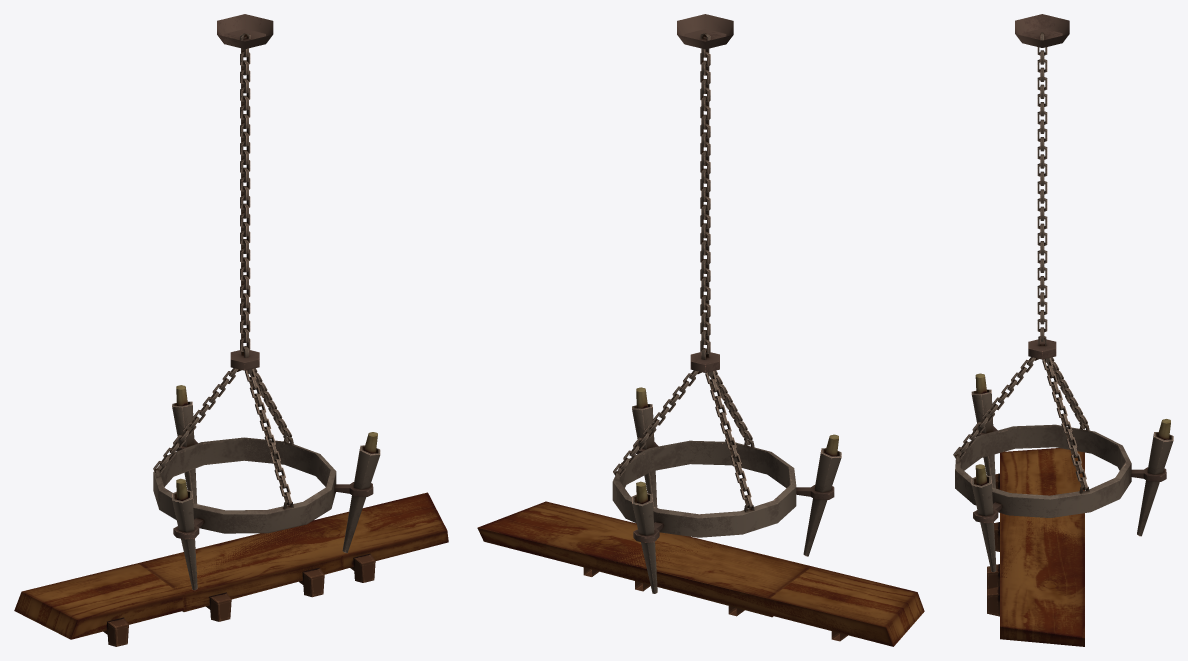
File: SM_Cluster_Kitchen_08.fbx
3 renders of one model, left to right at view 1: azimuth 30°, elevation 25°; view 2: azimuth 150°, elevation 25°; view 3: azimuth 270°, elevation 25°, orthographic. The views are drawn at different scales.
Visible parts, largest first — view 1: Shelf_Big, Chandelier_Start, Shelf_Small, Chandelier_Chain_Loop, Chandelier_End; view 2: Shelf_Big, Chandelier_Start, Shelf_Small, Chandelier_Chain_Loop, Chandelier_End; view 3: Chandelier_Start, Shelf_Big, Shelf_Small, Chandelier_Chain_Loop, Chandelier_End.
Boxes of the visible parts, left/top/right/bottom form: Shelf_Big: left=14, top=492, right=448, bottom=646; Chandelier_Start: left=153, top=301, right=380, bottom=590; Shelf_Small: left=138, top=525, right=343, bottom=621; Chandelier_Chain_Loop: left=240, top=33, right=250, bottom=308; Chandelier_End: left=217, top=14, right=273, bottom=48; Shelf_Big: left=477, top=501, right=924, bottom=646; Chandelier_Start: left=612, top=303, right=841, bottom=593; Shelf_Small: left=595, top=540, right=812, bottom=617; Chandelier_Chain_Loop: left=700, top=33, right=710, bottom=310; Chandelier_End: left=677, top=14, right=733, bottom=49; Chandelier_Start: left=953, top=292, right=1173, bottom=572; Shelf_Big: left=987, top=448, right=1084, bottom=646; Shelf_Small: left=987, top=513, right=1084, bottom=588; Chandelier_Chain_Loop: left=1037, top=32, right=1047, bottom=298; Chandelier_End: left=1015, top=14, right=1069, bottom=47.
Bounding box in the file's own units: 162 × 210 × 76.87.
